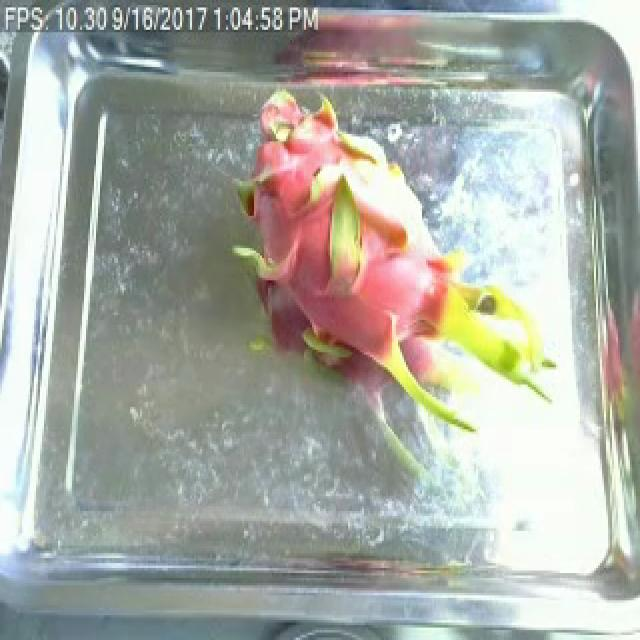fruit: (218, 77, 570, 486)
